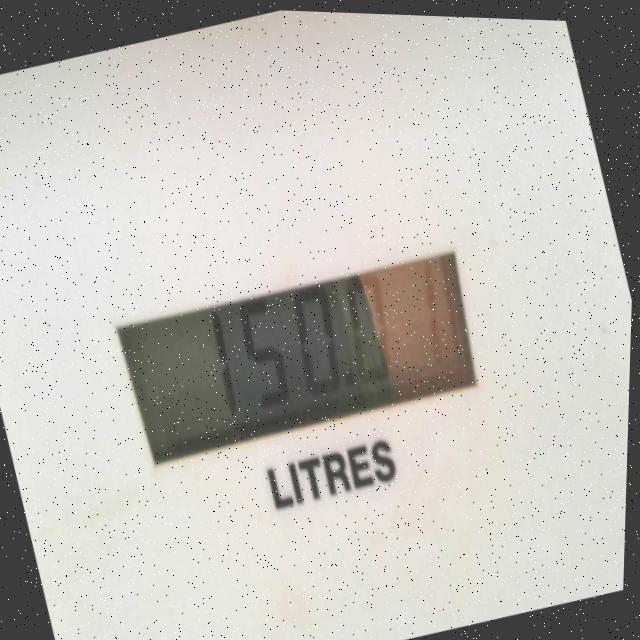.: (337, 358, 366, 397)
0: (334, 266, 418, 399), (278, 279, 357, 410)
1: (193, 301, 258, 428), (402, 254, 462, 369)
5: (226, 285, 309, 419)
